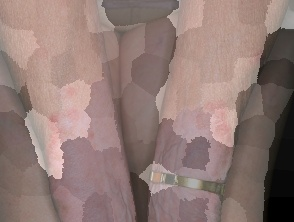vitiligo: (137, 16, 273, 222), (24, 52, 143, 222)
